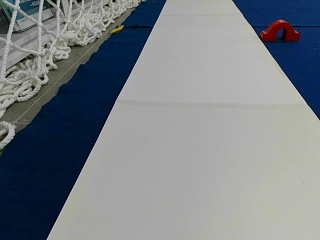bridge: (261, 20, 299, 40)
